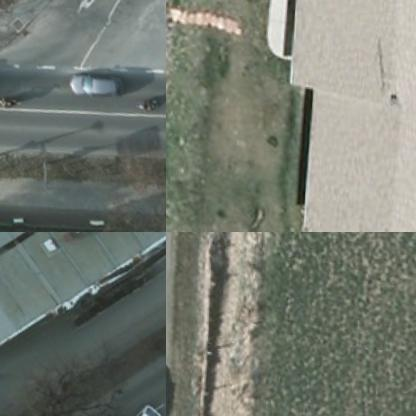car: (68, 59, 120, 92), (114, 393, 161, 415)
